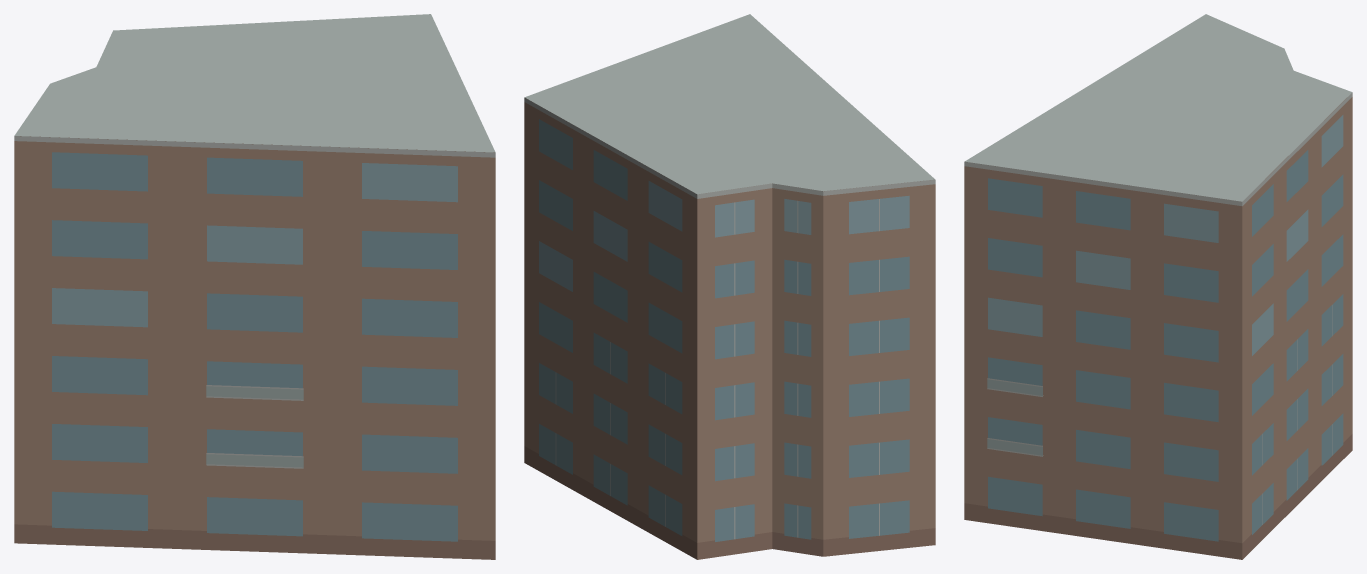
File: survey-upis-32949825.glb
3 views of the same model, side by side, from view 1: azimuth 30°, elevation 25°; view 2: azimuth 150°, elevation 25°; view 3: azimuth 270°, elevation 25° (orthographic). The views are drawn at different scales.
Parts seen in each view (by area): view 1: survey-upis-32949825.tmp; view 2: survey-upis-32949825.tmp; view 3: survey-upis-32949825.tmp.
Part boxes in pixels (bbox=[...]): survey-upis-32949825.tmp: bbox=[14, 14, 495, 559]; survey-upis-32949825.tmp: bbox=[524, 14, 935, 559]; survey-upis-32949825.tmp: bbox=[964, 14, 1352, 559].
Bounding box in the file's own units: 21.56 × 19.18 × 18.84.
